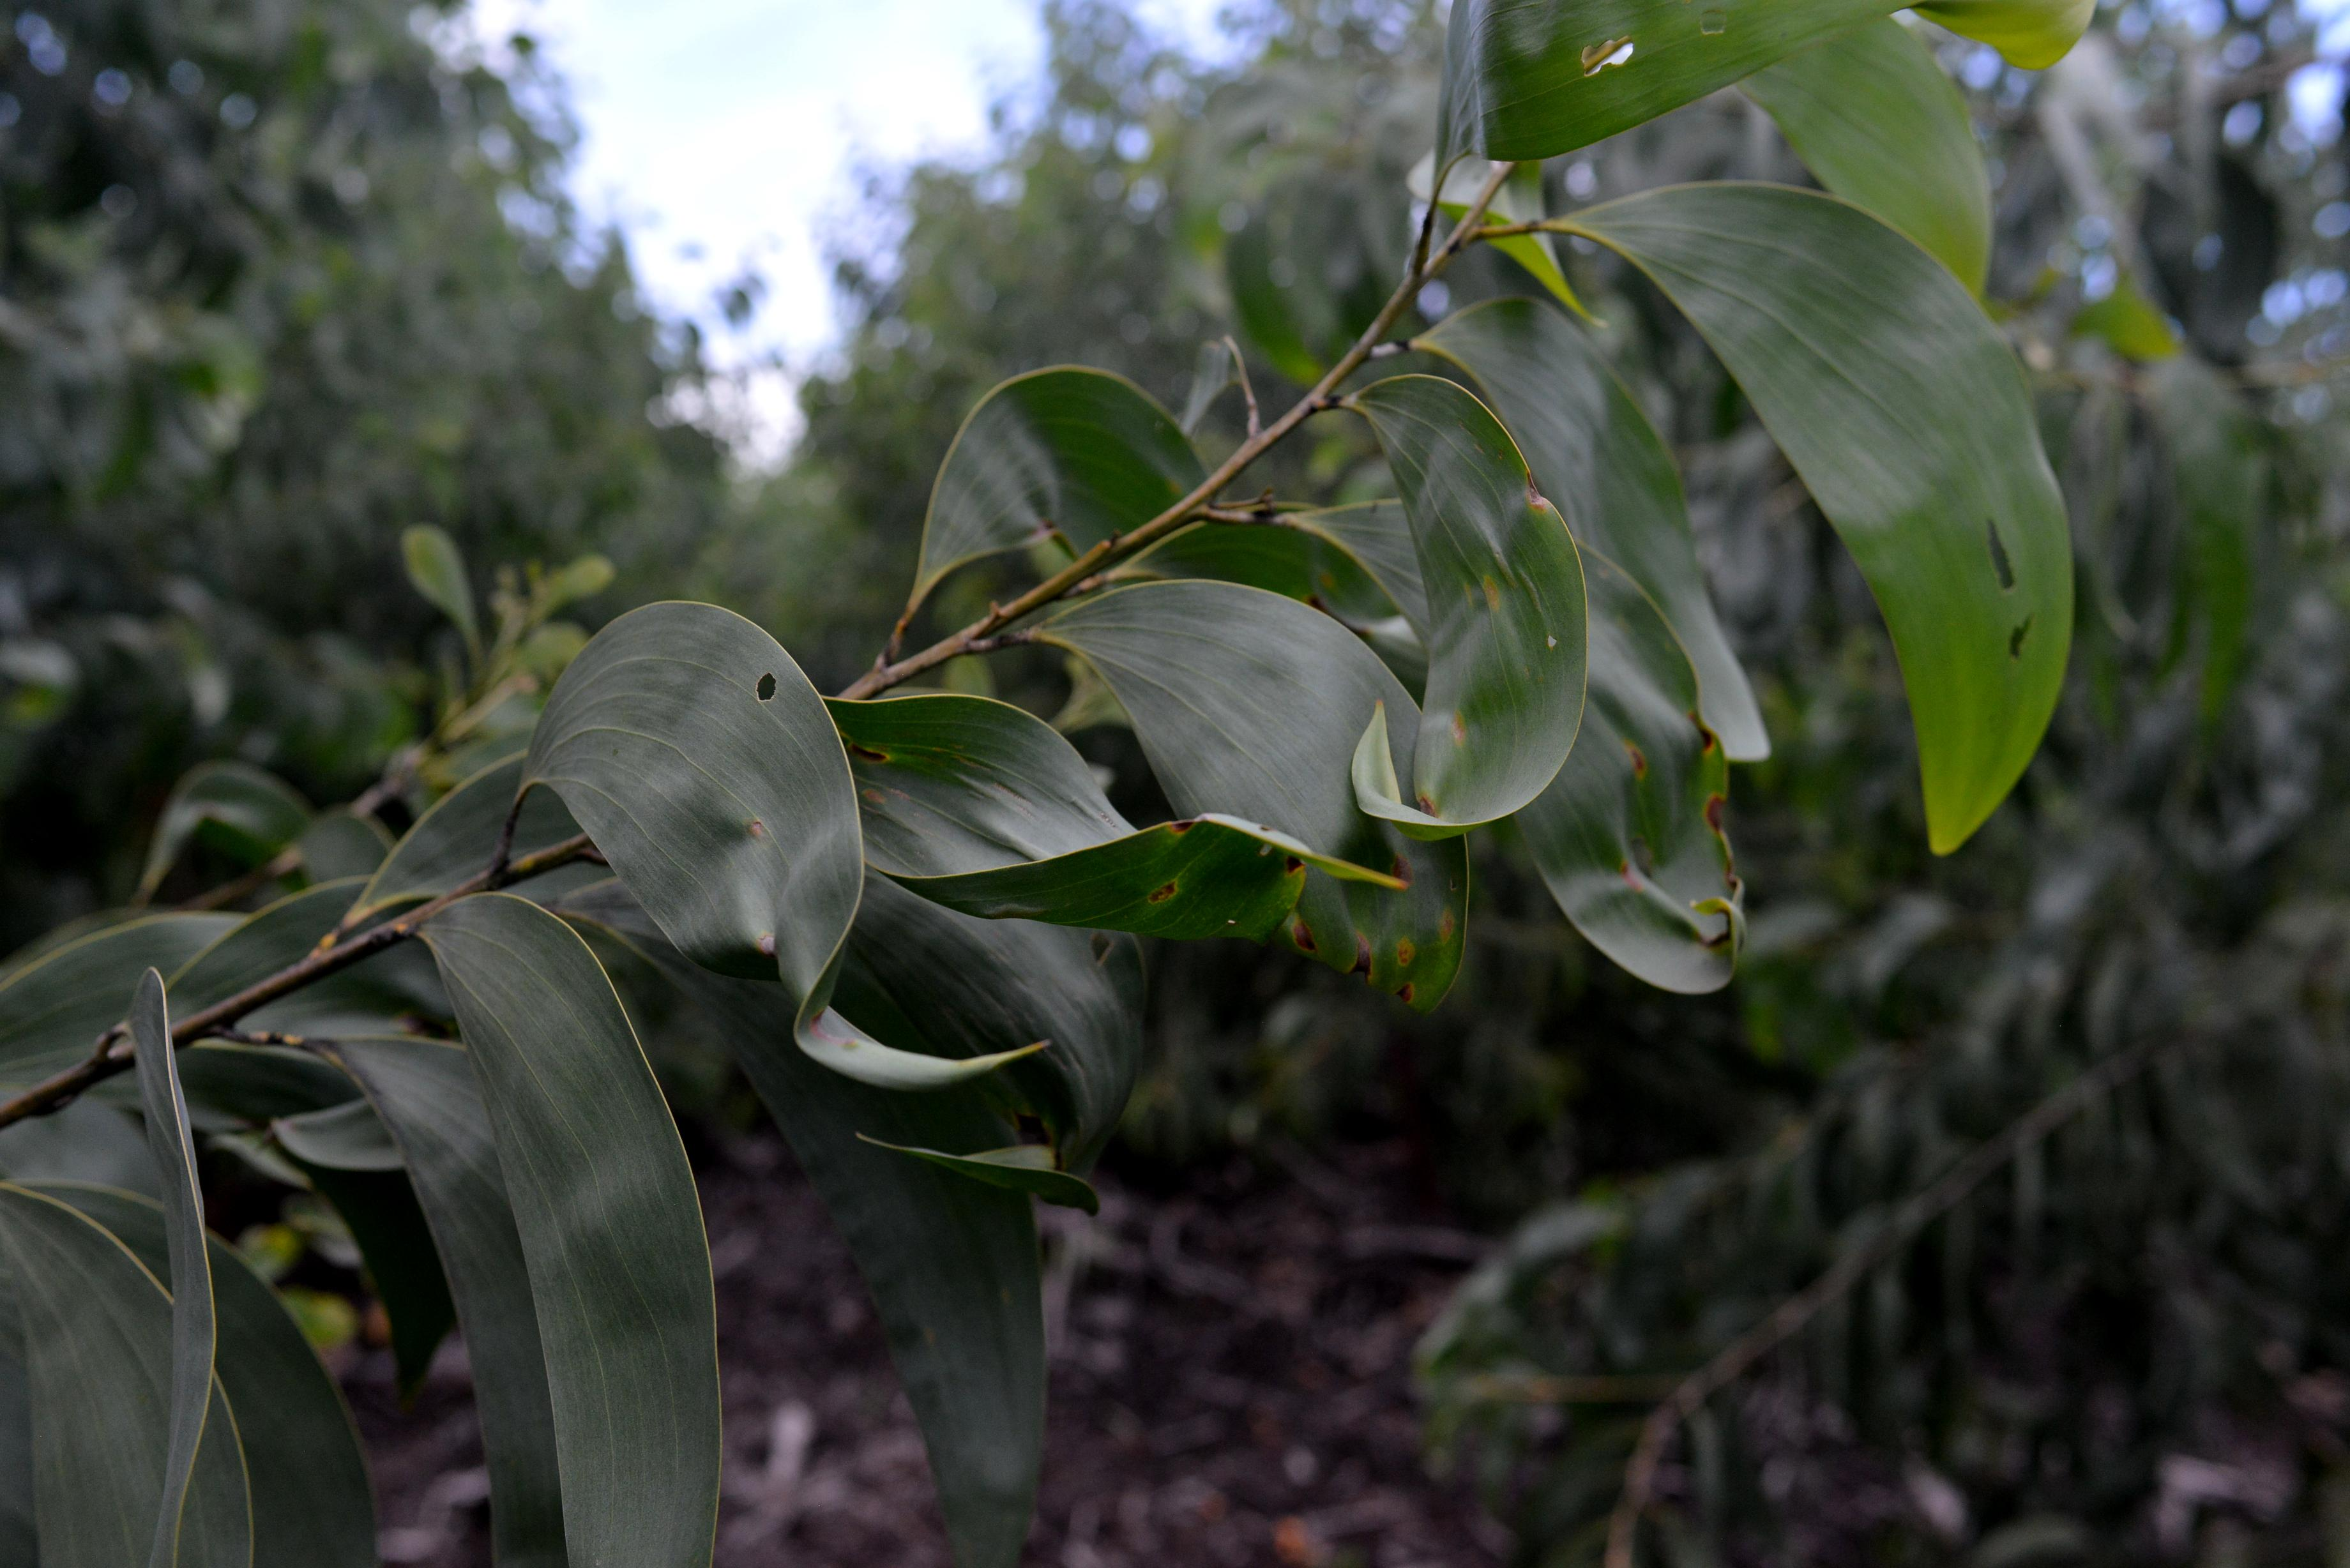Pasalora: (514, 591, 1034, 1087), (1351, 380, 1591, 812), (1601, 588, 1757, 990), (1041, 822, 1400, 964), (873, 1108, 1129, 1199)
